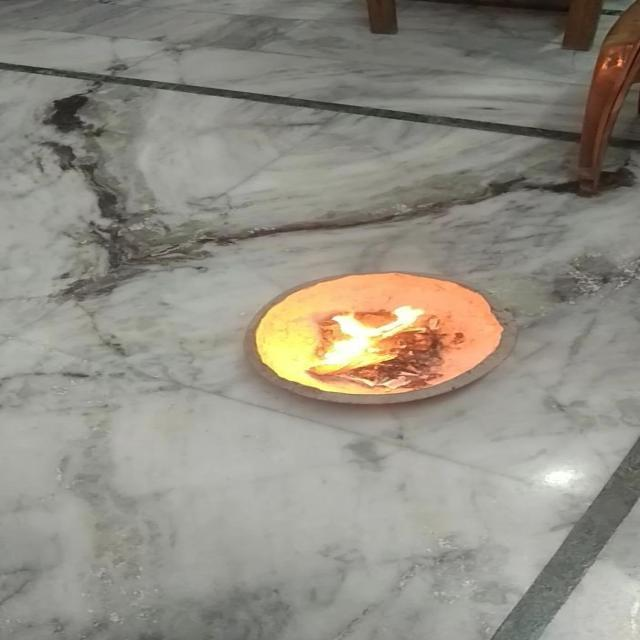smoke: (312, 304, 426, 374)
